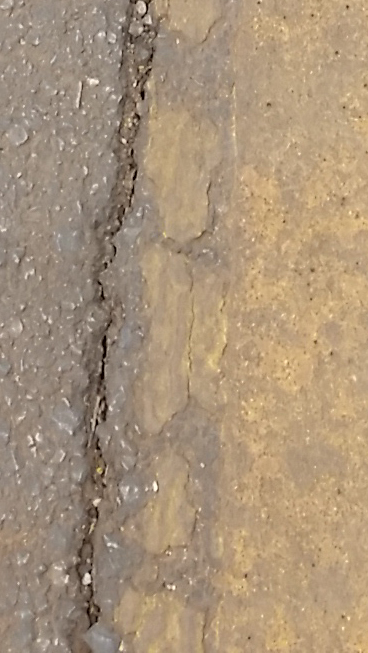A: (52, 1, 226, 638)
